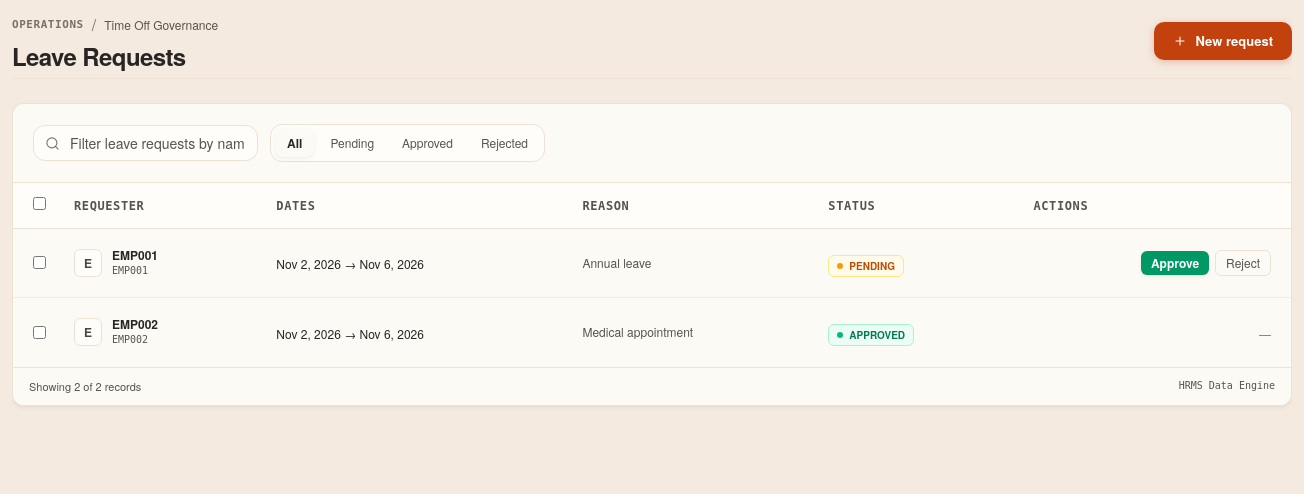
it: LeavePage (ADMIN/HR reviewer) › surfaces the backend message when a decision is refused
This screenshot has width=1304, height=494.
Expected: the text "Annual leave" is shown, [582,254,651,271]
Click the button "Approve".
click(1175, 263)  # box [1141,251,1209,275]
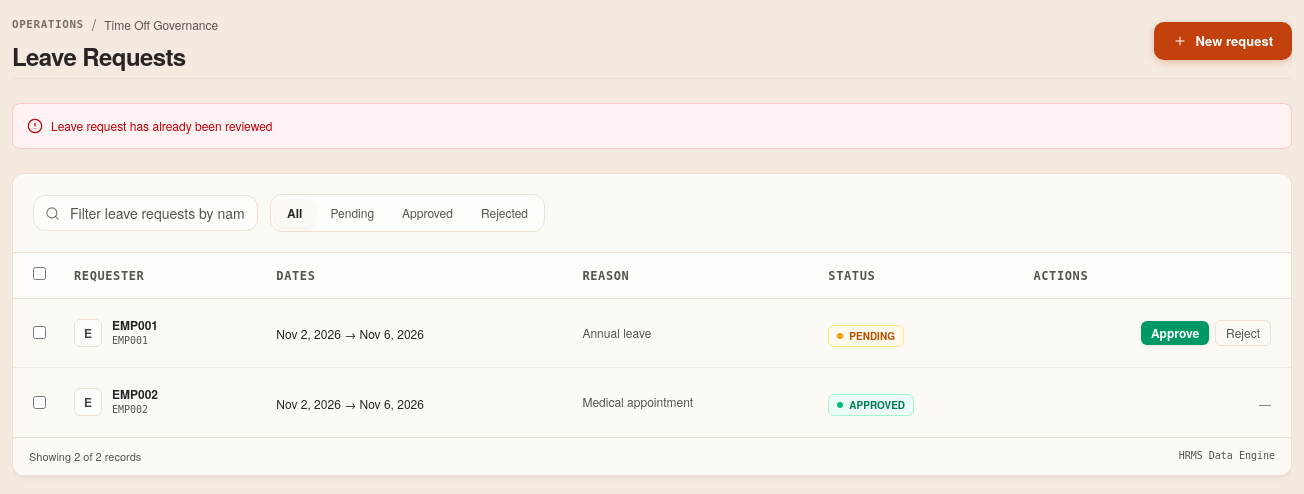
Now the message reads "Leave request has already been reviewed", box [51,117,272,134]
